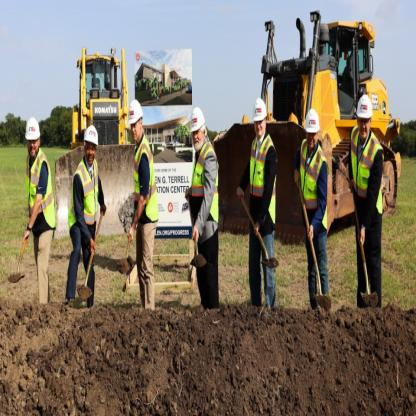bull_dozer/loader/grader: (214, 10, 406, 255)
person: (342, 91, 392, 311), (121, 87, 162, 318), (179, 100, 224, 308), (243, 93, 280, 314), (298, 101, 334, 327), (21, 115, 61, 315), (68, 108, 106, 318)
